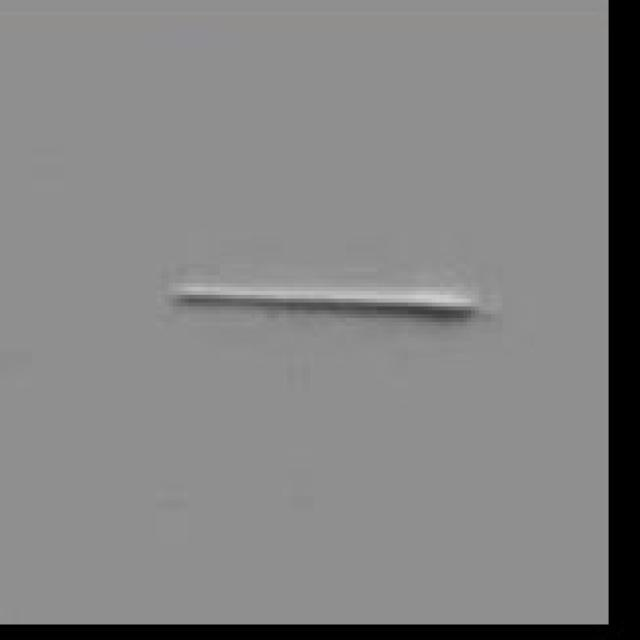Defect4: (132, 229, 493, 361)
